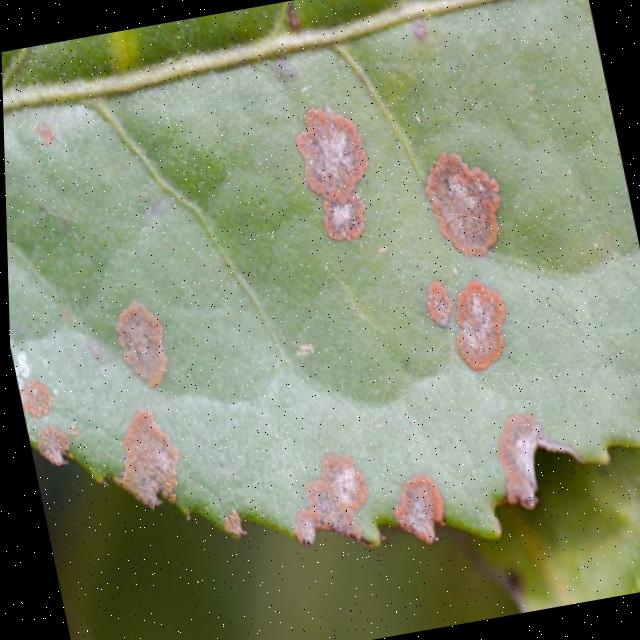Tea red rust: (20, 46, 640, 618)
